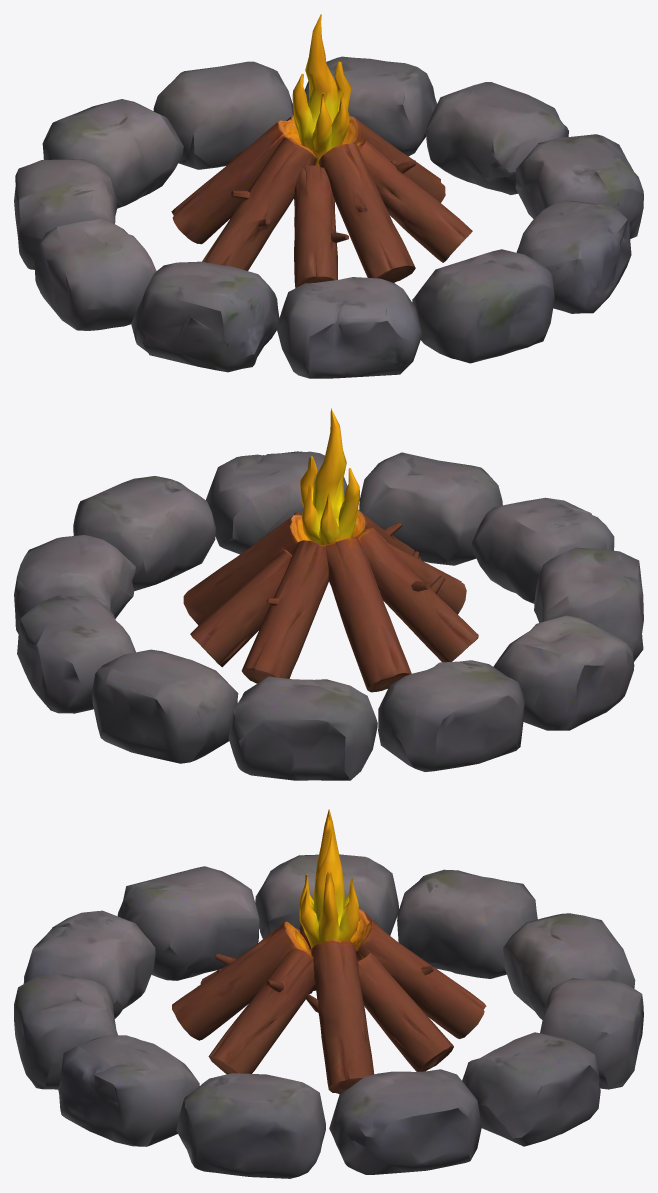
The model's file is campfire_prostoy_idle.glb.
3 views of the same model, one above another, from view 1: azimuth 30°, elevation 25°; view 2: azimuth 150°, elevation 25°; view 3: azimuth 270°, elevation 25° (orthographic). The views are drawn at different scales.
Parts seen in each view (by area): view 1: tripo_node_12640c80-2e5e-495d-97eb-a241ac85c6cf; view 2: tripo_node_12640c80-2e5e-495d-97eb-a241ac85c6cf; view 3: tripo_node_12640c80-2e5e-495d-97eb-a241ac85c6cf.
Part boxes in pixels (x1,y1,x2,y2): tripo_node_12640c80-2e5e-495d-97eb-a241ac85c6cf: (14, 14, 643, 378); tripo_node_12640c80-2e5e-495d-97eb-a241ac85c6cf: (14, 408, 643, 780); tripo_node_12640c80-2e5e-495d-97eb-a241ac85c6cf: (14, 809, 643, 1178).
Size of the model in its own units: 1.18 by 0.4991 by 1.17.
1 material, 1 textured.
